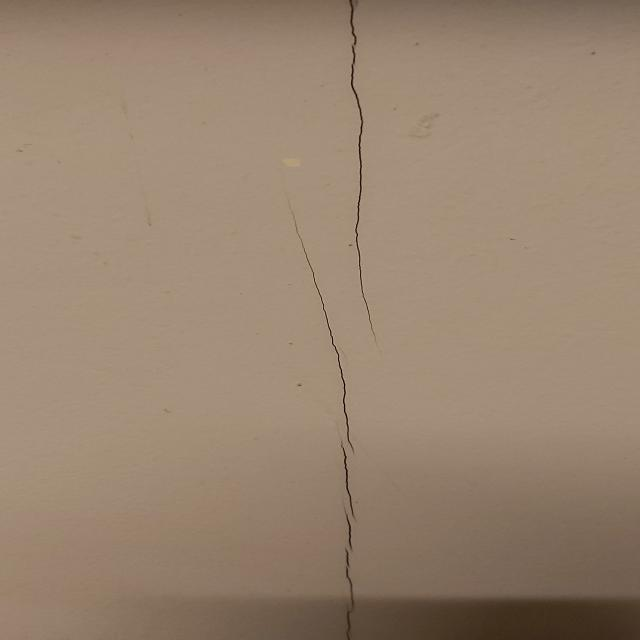Crack: (276, 213, 355, 640), (339, 2, 387, 350)
